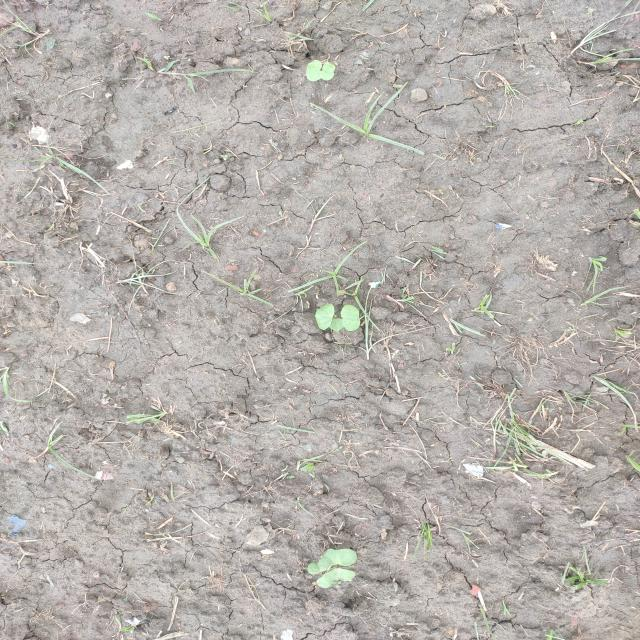seedling_s4: (317, 568, 356, 588), (322, 548, 357, 566), (340, 305, 360, 331), (315, 304, 335, 330), (307, 557, 332, 575), (306, 59, 322, 82), (319, 61, 335, 81), (329, 318, 344, 332)
